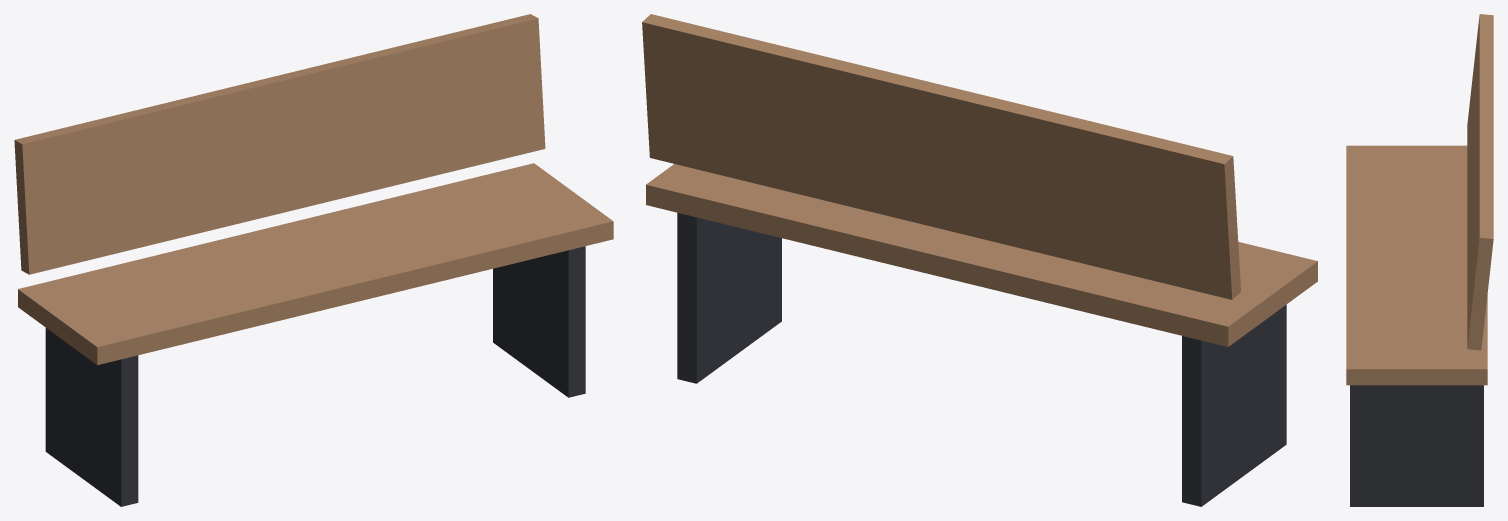
The model's file is bench.glb.
3 renders of one model, left to right at view 1: azimuth 30°, elevation 25°; view 2: azimuth 150°, elevation 25°; view 3: azimuth 270°, elevation 25°, orthographic. The views are drawn at different scales.
Visible parts, largest first — view 1: box (×4); view 2: box (×4); view 3: box (×3).
Part boxes in pixels (x1,y1,x2,y2): box (×4): (14, 14, 613, 506); box (×4): (642, 14, 1317, 506); box (×3): (1346, 14, 1493, 506).
Bounding box in the file's own units: 1.5 × 0.8761 × 0.4174.
